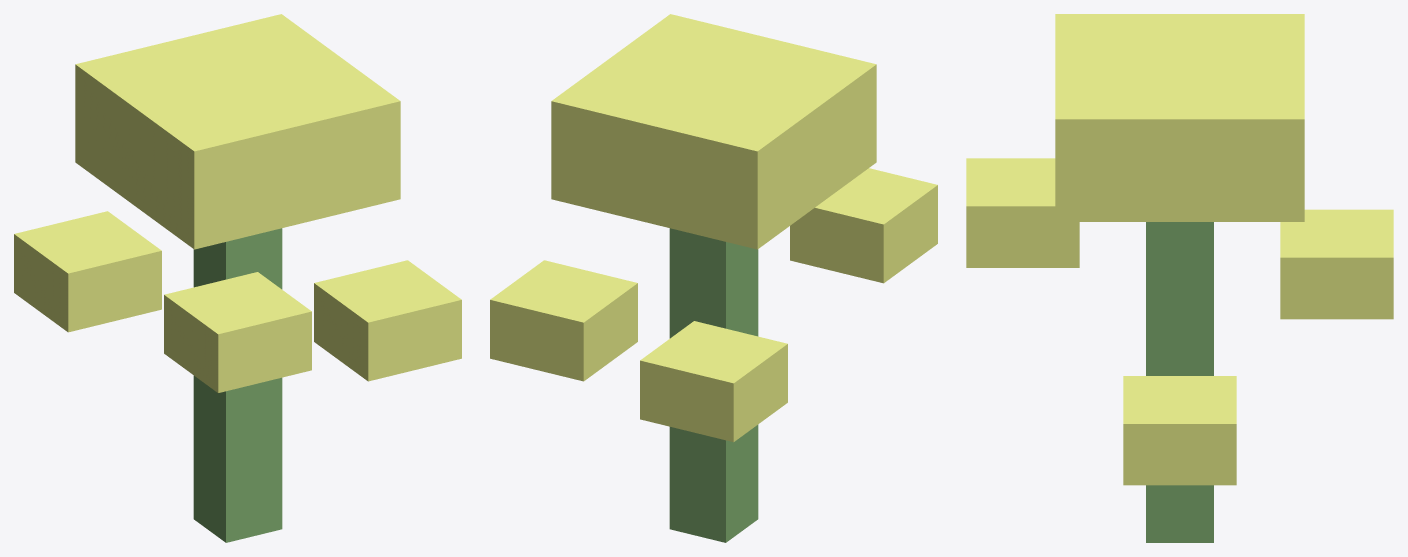
The model's file is Prop_DS_Herb_ParityPetal_S2_V1.glb.
3 renders of one model, left to right at view 1: azimuth 30°, elevation 25°; view 2: azimuth 150°, elevation 25°; view 3: azimuth 270°, elevation 25°, orthographic. The views are drawn at different scales.
Parts seen in each view (by area): view 1: Prop_DS_Herb_ParityPetal_S2_V1; view 2: Prop_DS_Herb_ParityPetal_S2_V1; view 3: Prop_DS_Herb_ParityPetal_S2_V1.
Part boxes in pixels (<box>): Prop_DS_Herb_ParityPetal_S2_V1: <box>14,14,461,542</box>; Prop_DS_Herb_ParityPetal_S2_V1: <box>490,14,937,542</box>; Prop_DS_Herb_ParityPetal_S2_V1: <box>966,14,1393,542</box>.
Size of the model in its own units: 0.34 by 0.45 by 0.3771.
